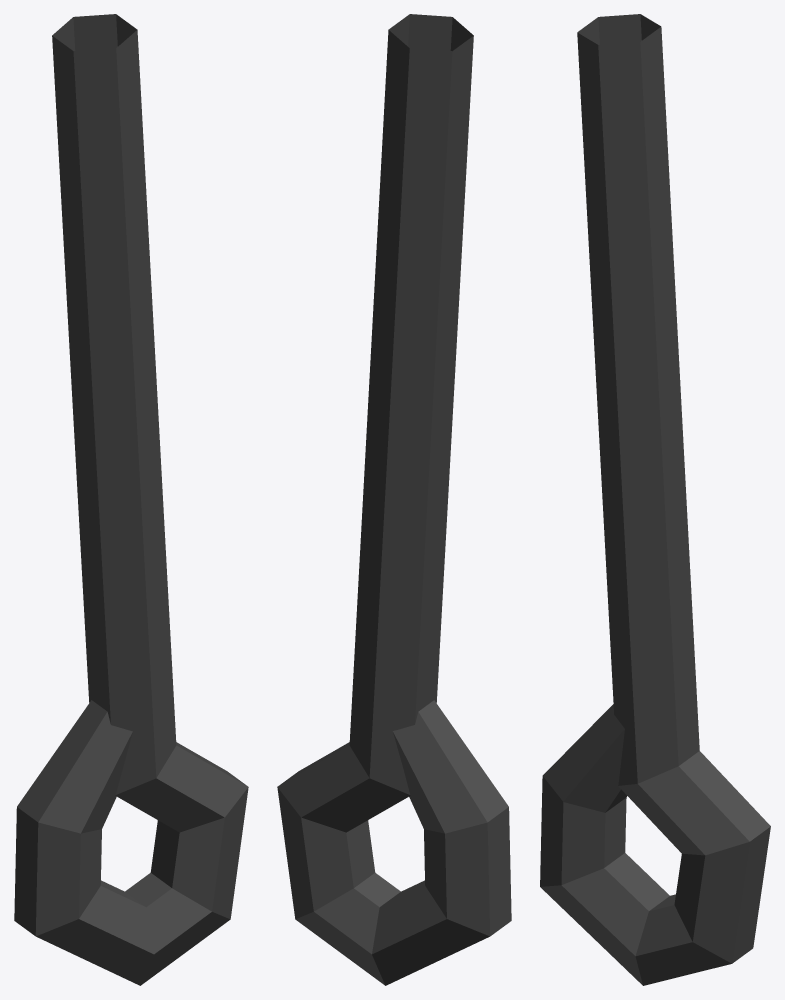
The model's file is rope_2.FBX.
The picture shows the model from 3 angles, left to right: view 1: azimuth 30°, elevation 25°; view 2: azimuth 150°, elevation 25°; view 3: azimuth 330°, elevation 25°; orthographic projection.
Parts seen in each view (by area): view 1: rope_2; view 2: rope_2; view 3: rope_2.
Part boxes in pixels (x1=…): rope_2: x1=14, y1=14, x2=248, y2=985; rope_2: x1=277, y1=14, x2=511, y2=985; rope_2: x1=540, y1=14, x2=770, y2=985.
Bounding box in the file's own units: 2.87 × 12.33 × 1.
